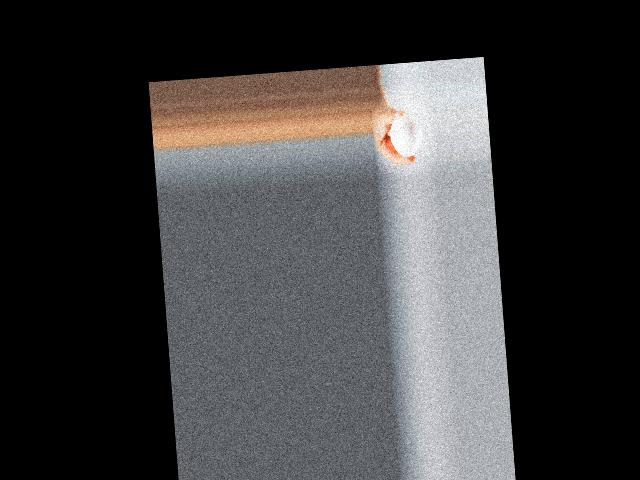egg: (389, 114, 422, 158)
